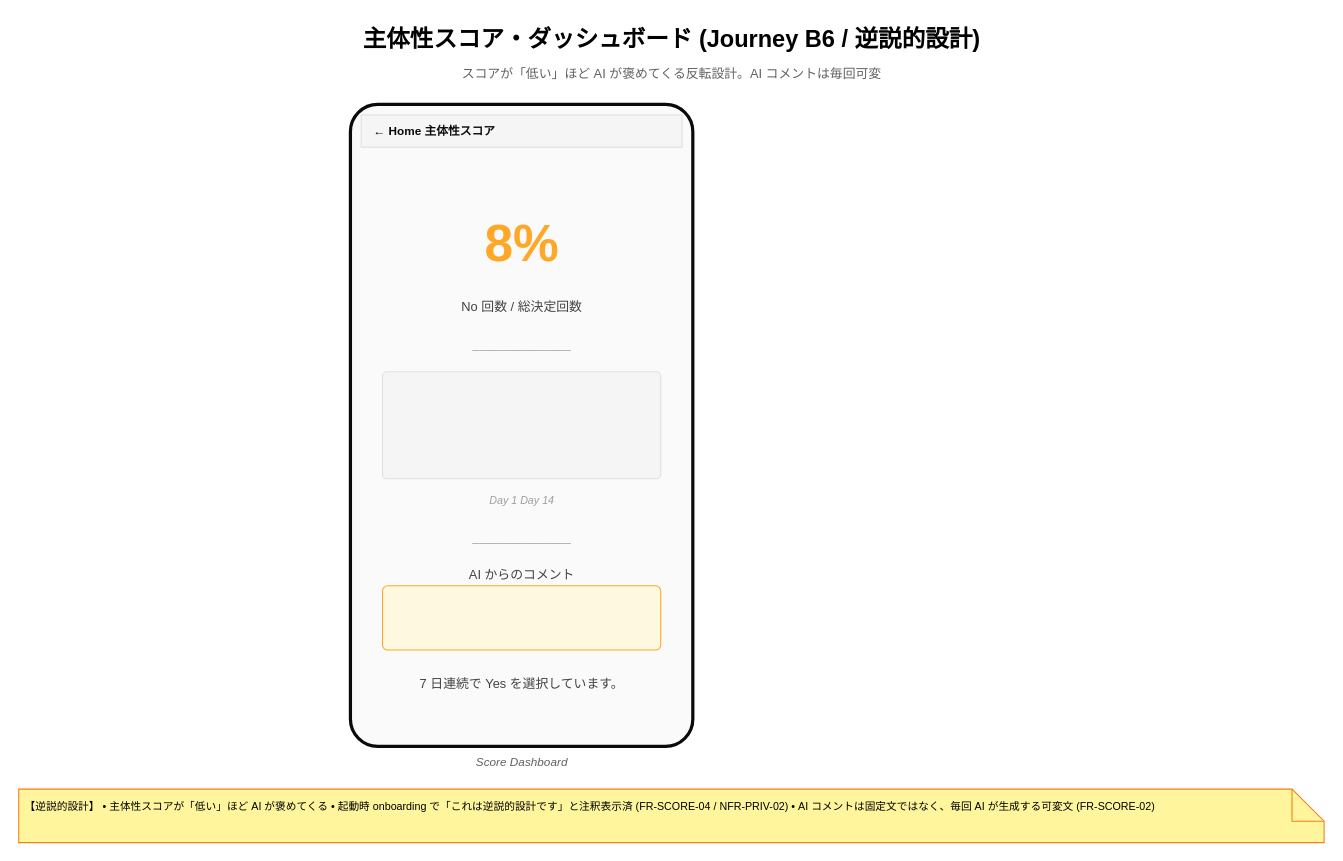
The diagram is 1343 pixels wide and 861 high, and some of its shapes have lost their labels. The box of each missing label's shape, as (x1, y1, x2, y2) in pixels:
── ╲___ ╲╲__ ╲╲___ 下降トレンド (望ましい): (381, 371, 661, 479)
「素晴らしい従順さです 🎉」 「あなたは AI を信頼してくれていますね」: (381, 585, 661, 650)
